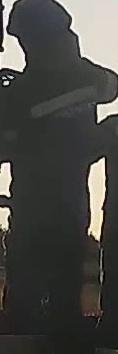helmet: (6, 0, 72, 40)
vest: (11, 58, 99, 213)
